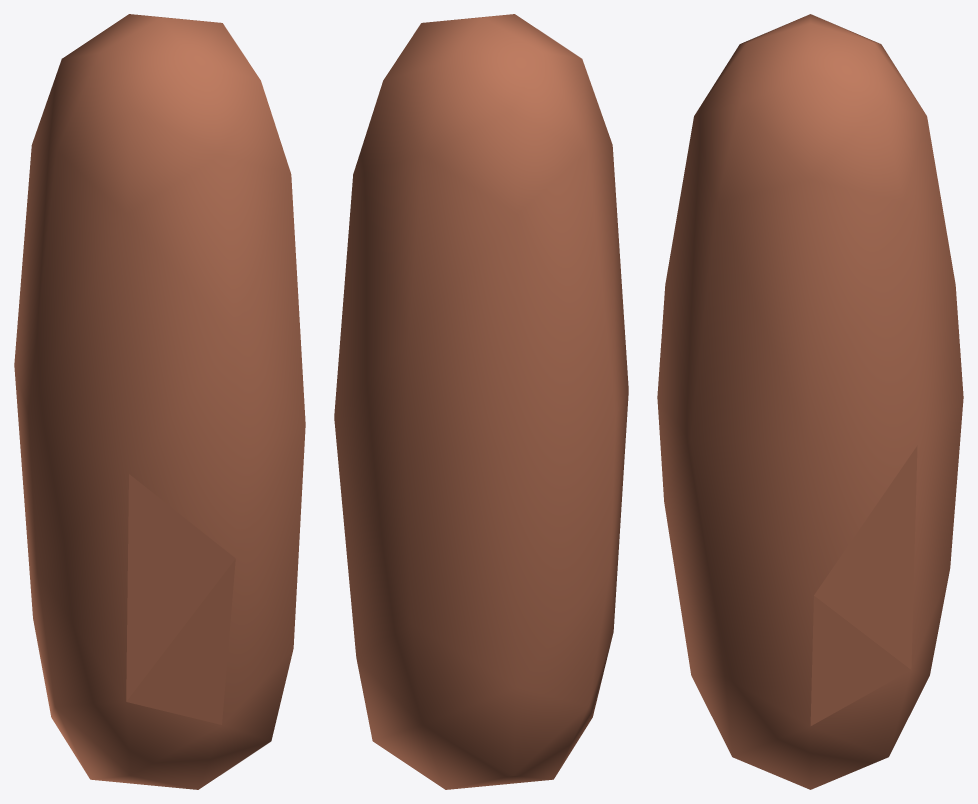
The model's file is left-right_upper_arm.dae.
3 views of the same model, side by side, from view 1: azimuth 30°, elevation 25°; view 2: azimuth 150°, elevation 25°; view 3: azimuth 270°, elevation 25° (orthographic).
Parts seen in each view (by area): view 1: Plane; view 2: Plane; view 3: Plane.
Part boxes in pixels (bbox=[...]): Plane: bbox=[14, 14, 305, 789]; Plane: bbox=[334, 14, 628, 789]; Plane: bbox=[657, 14, 963, 789].
Size of the model in its own units: 0.3646 by 0.3697 by 1.
